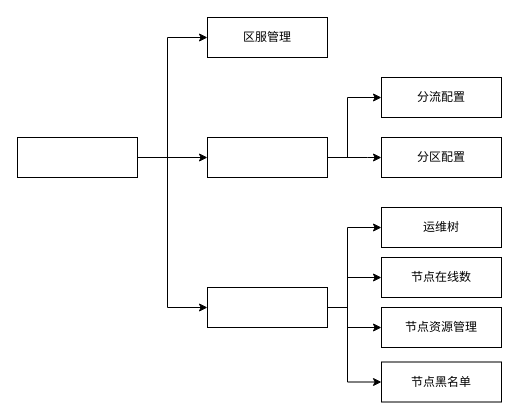
Image size: 519x420. Some labels were removed from this diagram. The shapes that lost their labels are listed below. From the top down, each one's centre as x and y in pixels, then its label:
At [77,157]: "VOP".
At [267,157]: "分流和分区配置".
At [267,307]: "资源管理".
